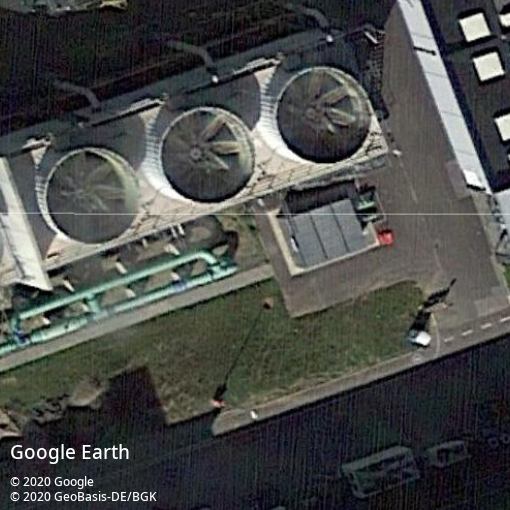Vent: (43, 147, 143, 246), (160, 106, 258, 205), (275, 66, 372, 166)
